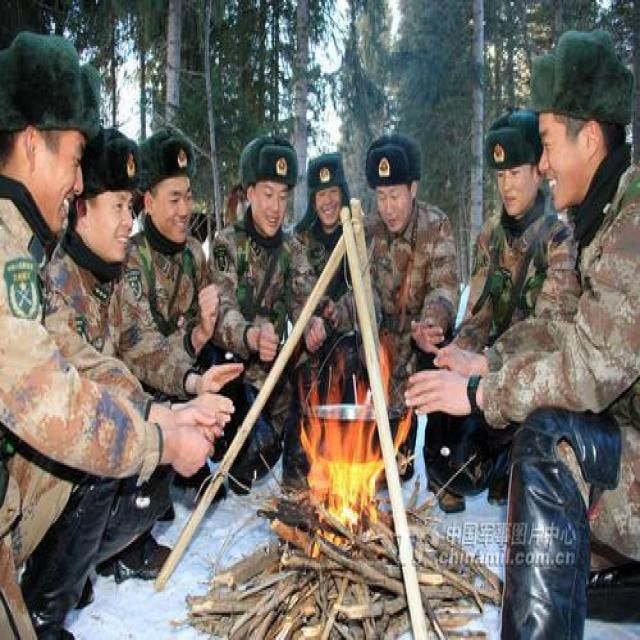fire: (291, 351, 428, 545)
